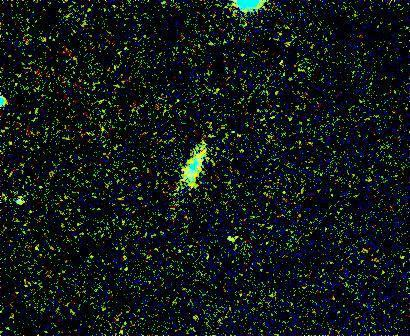star: (219, 229, 249, 259)
